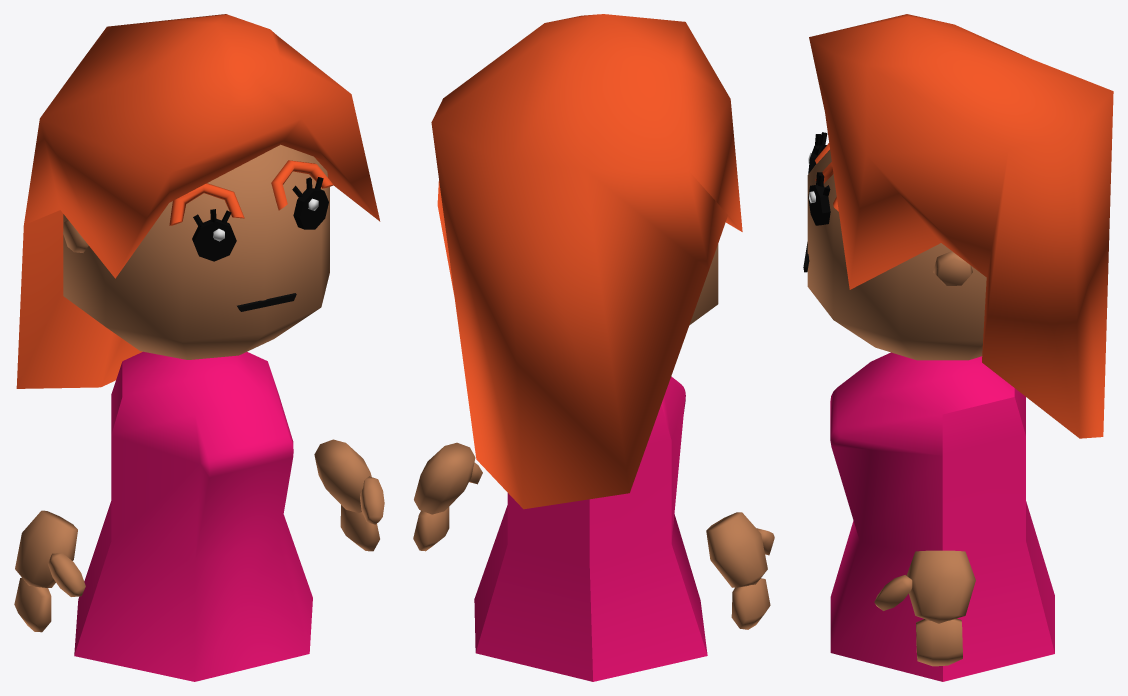
The model's file is mujer_4.fbx.
3 renders of one model, left to right at view 1: azimuth 30°, elevation 25°; view 2: azimuth 150°, elevation 25°; view 3: azimuth 270°, elevation 25°, orthographic. The views are drawn at different scales.
Visible parts, largest first — view 1: Pelo003, Cuerpo003, Cabeza003, Palma Izquerda006, Palma Izquerda007, Ojo Derecho003, Dedos Izquierdos007, Ojo Izquierdo003, Ceja Derecha003, Dedos Izquierdos006, DedoPulga Izquierdo007, Ceja Izquierda003 (+1 smaller); view 2: Pelo003, Cuerpo003, Palma Izquerda006, Palma Izquerda007, Dedos Izquierdos007, Dedos Izquierdos006, Cabeza003; view 3: Pelo003, Cuerpo003, Cabeza003, Palma Izquerda007, Dedos Izquierdos006, Oreja Derecha007, DedoPulga Izquierdo006, Ojo Izquierdo003.
Boxes of the visible parts, bbox=[...] form: Pelo003: bbox=[16, 14, 380, 388]; Cuerpo003: bbox=[74, 351, 312, 681]; Cabeza003: bbox=[63, 144, 329, 359]; Palma Izquerda006: bbox=[15, 510, 77, 587]; Palma Izquerda007: bbox=[314, 439, 371, 512]; Ojo Derecho003: bbox=[192, 209, 236, 261]; Dedos Izquierdos007: bbox=[14, 577, 51, 632]; Ojo Izquierdo003: bbox=[292, 177, 328, 229]; Ceja Derecha003: bbox=[169, 183, 244, 225]; Dedos Izquierdos006: bbox=[340, 505, 379, 551]; DedoPulga Izquierdo007: bbox=[48, 553, 85, 596]; Ceja Izquierda003: bbox=[271, 160, 333, 210]; Pelo003: bbox=[431, 14, 742, 509]; Cuerpo003: bbox=[474, 376, 707, 681]; Palma Izquerda006: bbox=[706, 512, 767, 587]; Palma Izquerda007: bbox=[414, 442, 475, 514]; Dedos Izquierdos007: bbox=[731, 578, 770, 629]; Dedos Izquierdos006: bbox=[413, 507, 449, 551]; Cabeza003: bbox=[689, 244, 718, 325]; Pelo003: bbox=[809, 14, 1113, 438]; Cuerpo003: bbox=[830, 352, 1054, 681]; Cabeza003: bbox=[807, 150, 986, 360]; Palma Izquerda007: bbox=[906, 550, 975, 623]; Dedos Izquierdos006: bbox=[916, 618, 962, 666]; Oreja Derecha007: bbox=[933, 251, 972, 285]; DedoPulga Izquierdo006: bbox=[874, 575, 912, 610]; Ojo Izquierdo003: bbox=[808, 172, 830, 225].
Bounding box in the file's own units: 1.41 × 2.35 × 1.09.
